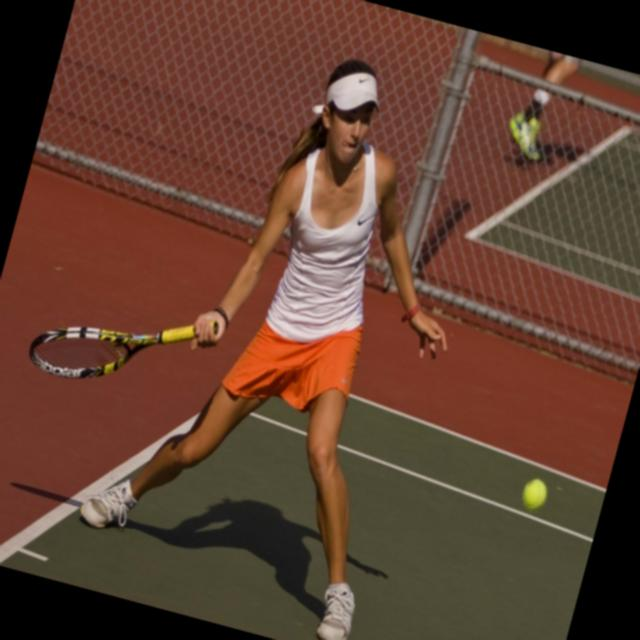Tennis ball: (518, 476, 548, 512)
